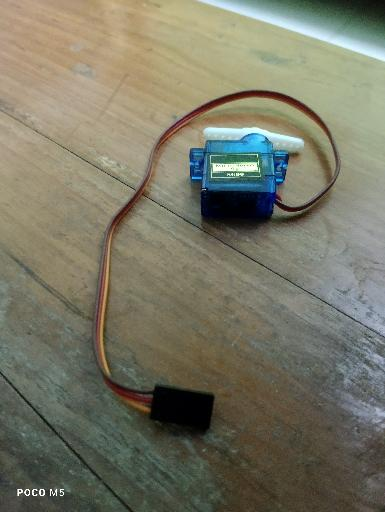Motor: (189, 125, 304, 222)
